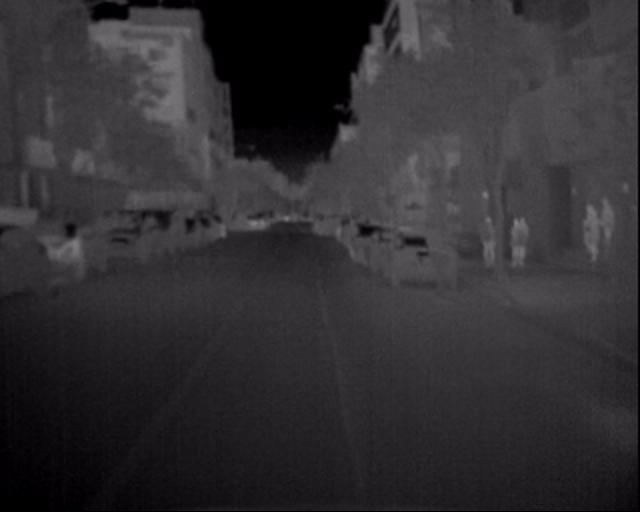person: (575, 194, 610, 270), (592, 186, 623, 270), (475, 211, 502, 272), (507, 212, 535, 269)
